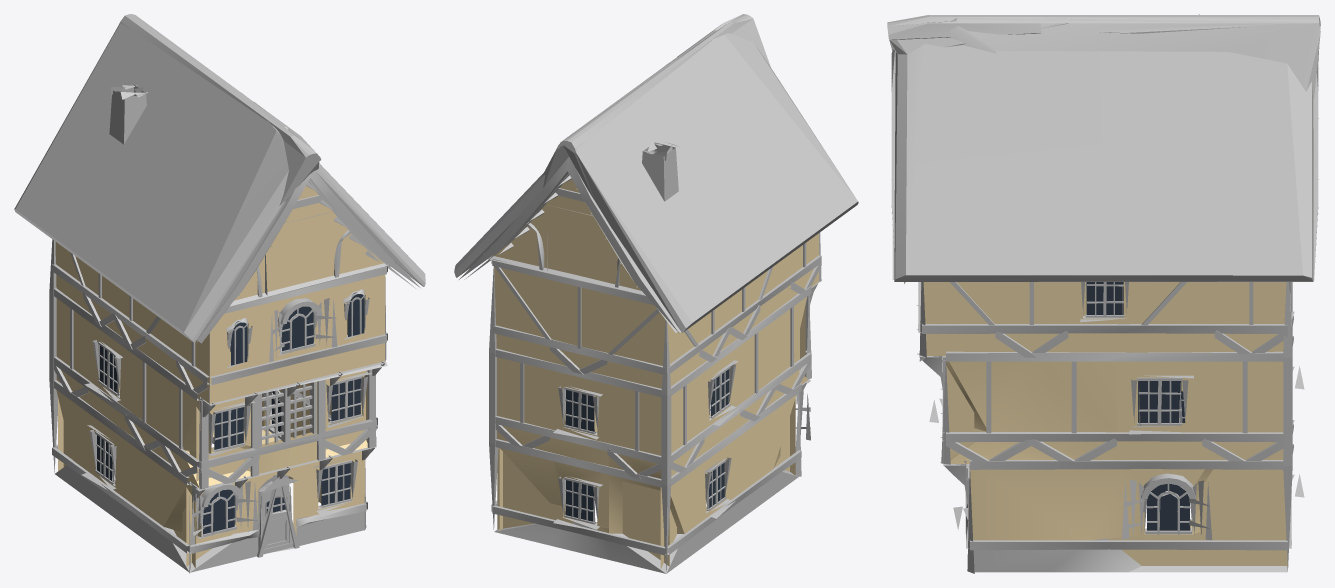
File: generated.townhouse_jettied.gltf
3 renders of one model, left to right at view 1: azimuth 30°, elevation 25°; view 2: azimuth 150°, elevation 25°; view 3: azimuth 270°, elevation 25°, orthographic. The views are drawn at different scales.
Parts seen in each view (by area): view 1: lod; view 2: lod; view 3: lod.
Boxes of the visible parts, left/top/right/bottom form: lod: left=14, top=14, right=425, bottom=573; lod: left=454, top=14, right=858, bottom=573; lod: left=887, top=14, right=1320, bottom=573.
Bounding box in the file's own units: 8.25 × 14.02 × 10.9.
